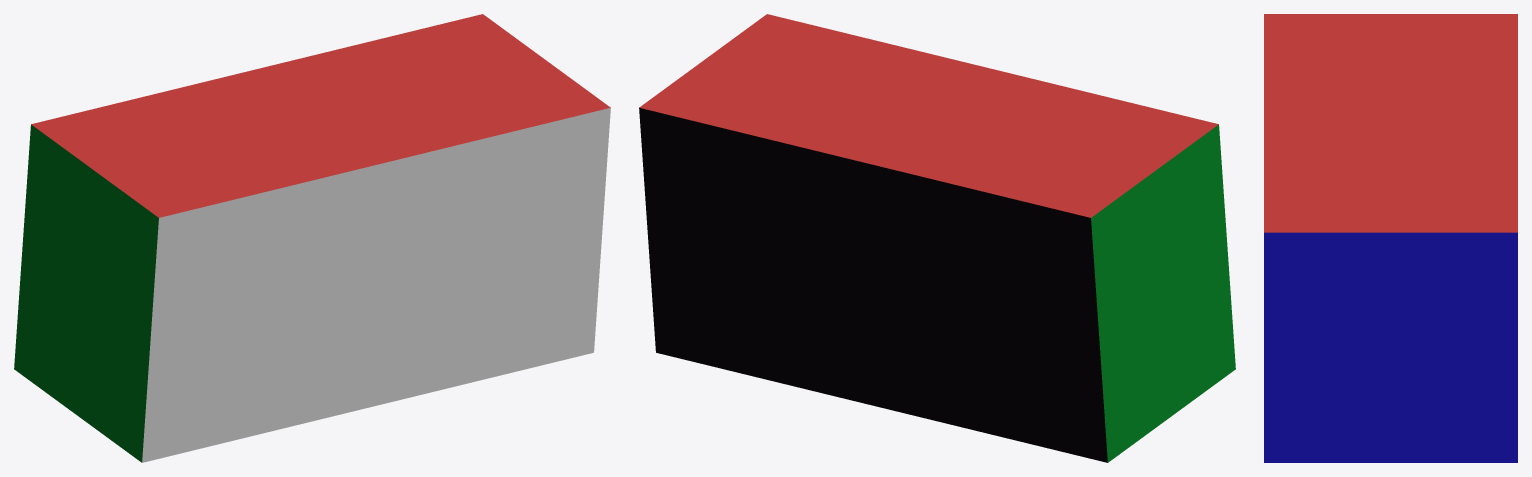
Rendered from cubestretch.fbx.
The picture shows the model from 3 angles, left to right: view 1: azimuth 30°, elevation 25°; view 2: azimuth 150°, elevation 25°; view 3: azimuth 270°, elevation 25°; orthographic projection.
Visible parts, largest first — view 1: Cube; view 2: Cube; view 3: Cube.
Boxes of the visible parts, x1,y1,x2,y2 form: Cube: [14, 14, 610, 462]; Cube: [639, 14, 1235, 462]; Cube: [1264, 14, 1517, 462].
Size of the model in its own units: 423 by 208 by 200.
